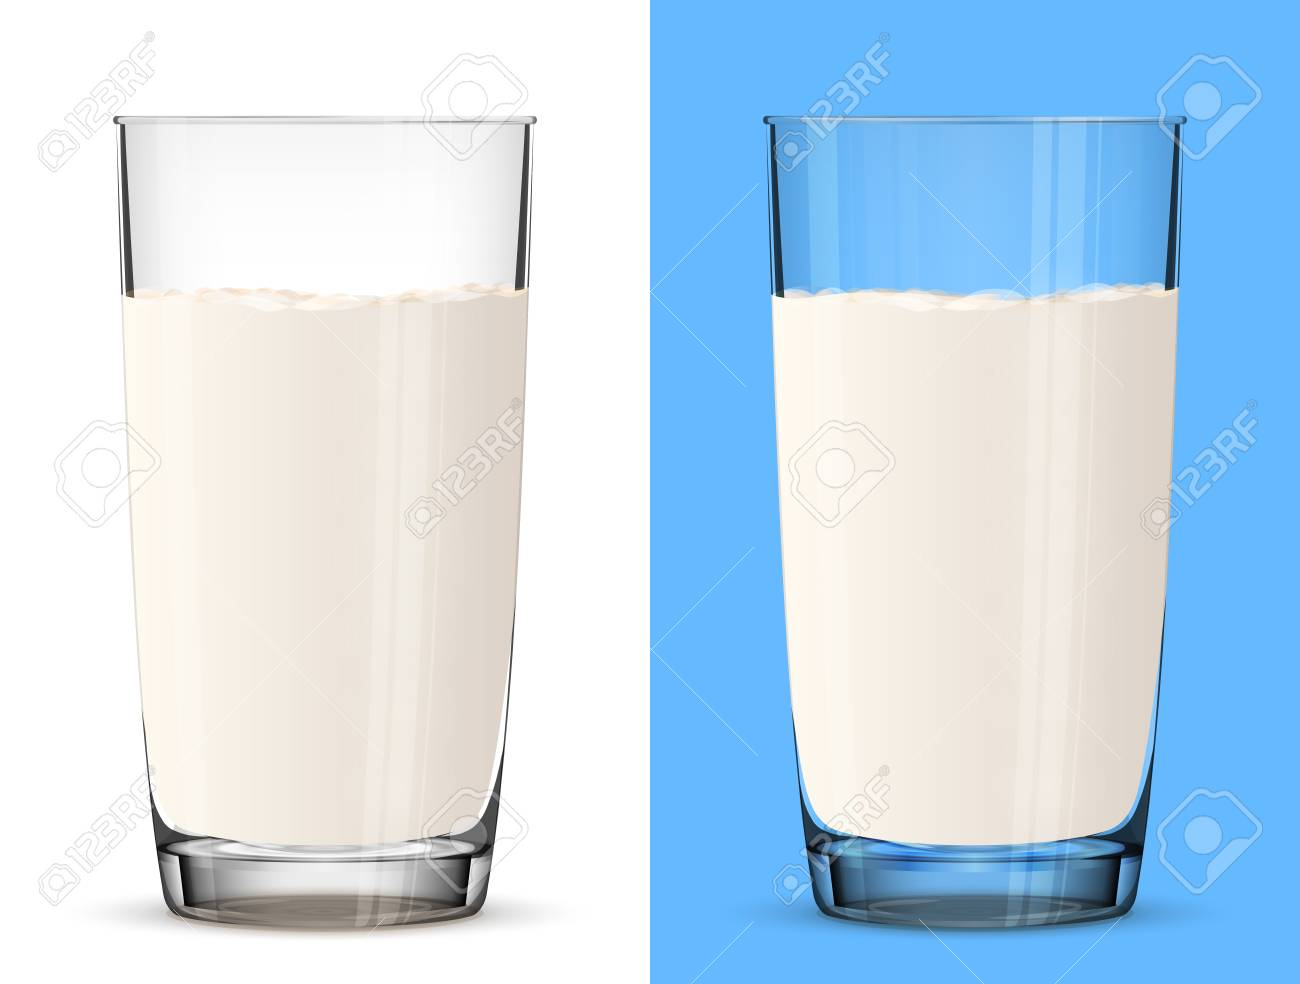glass of milk: (760, 114, 1187, 925), (111, 116, 536, 922)
